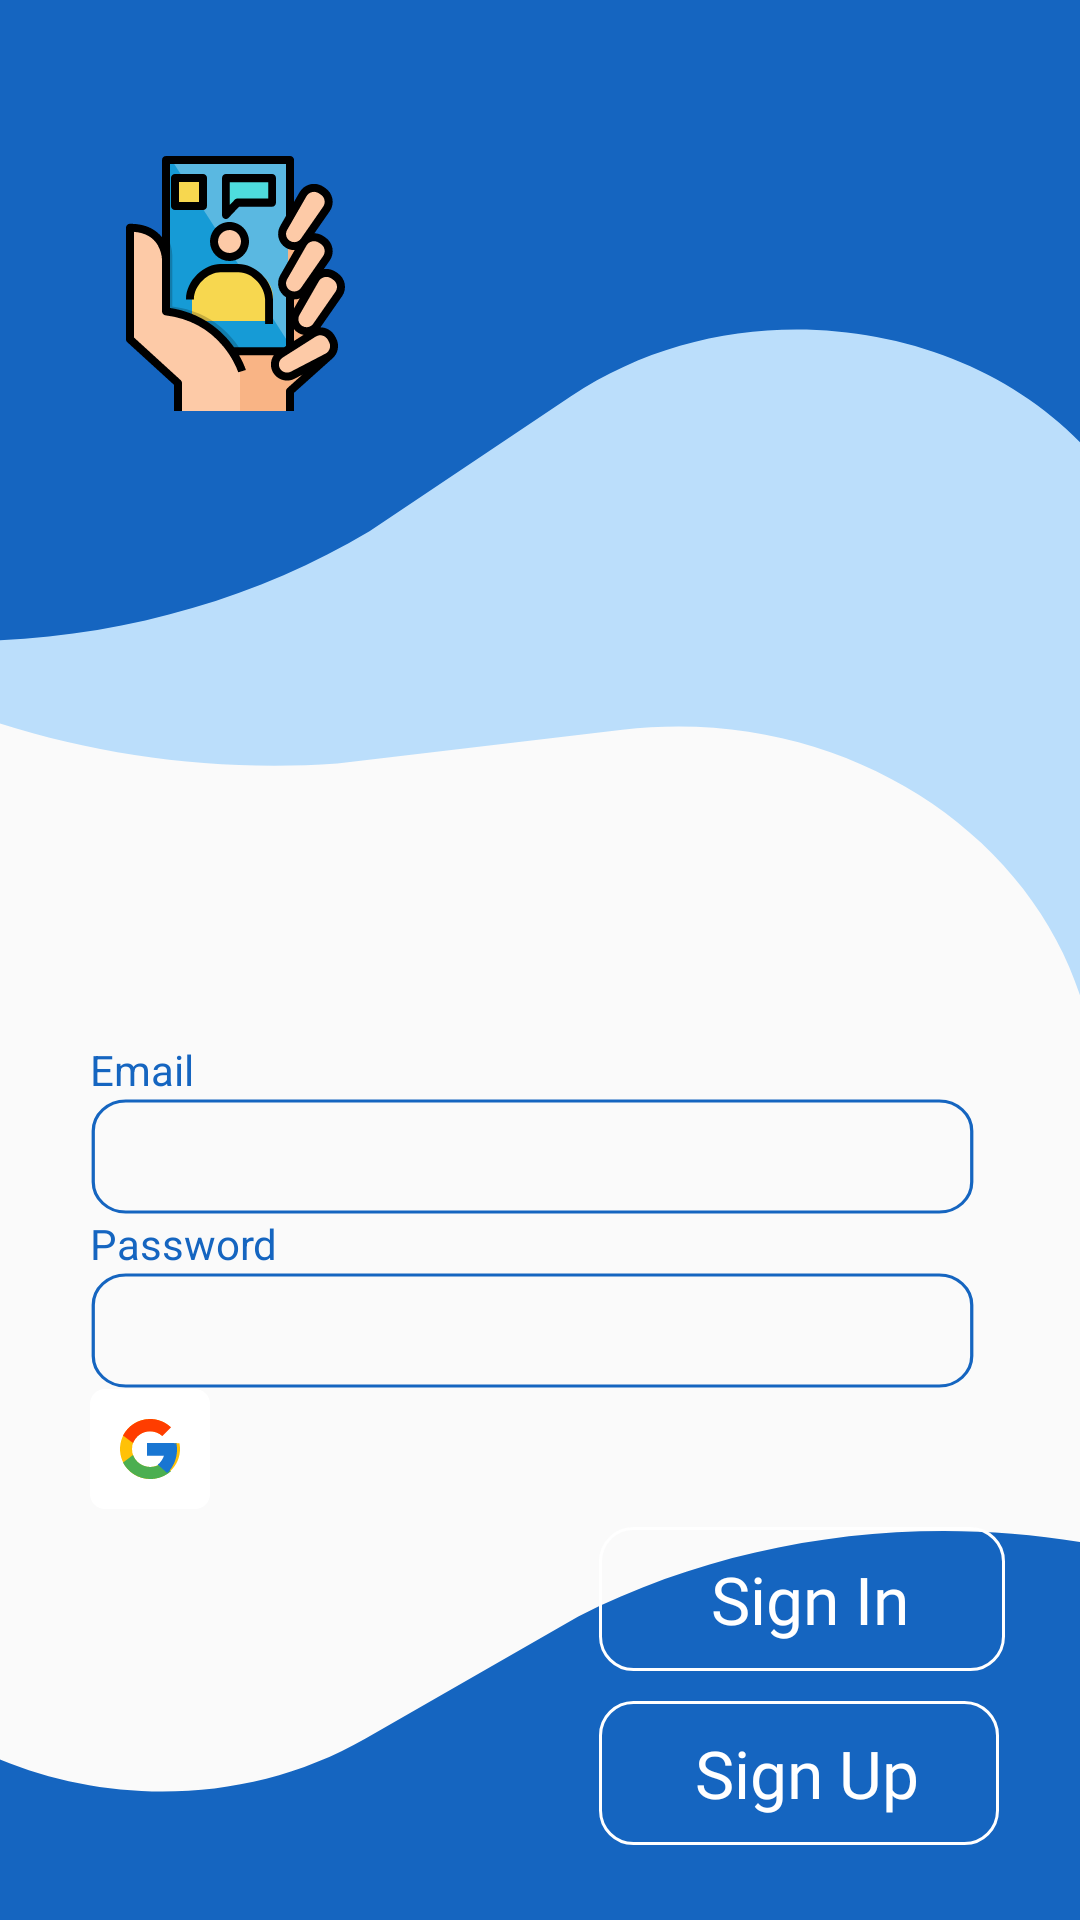

Icon bounding boxes for this 1080 x 1920 phone screenshot, format {"left": x1, "top": y1, "right": x2, "bottom": y2}:
video calling colorfull: {"left": 126, "top": 156, "right": 345, "bottom": 411}
